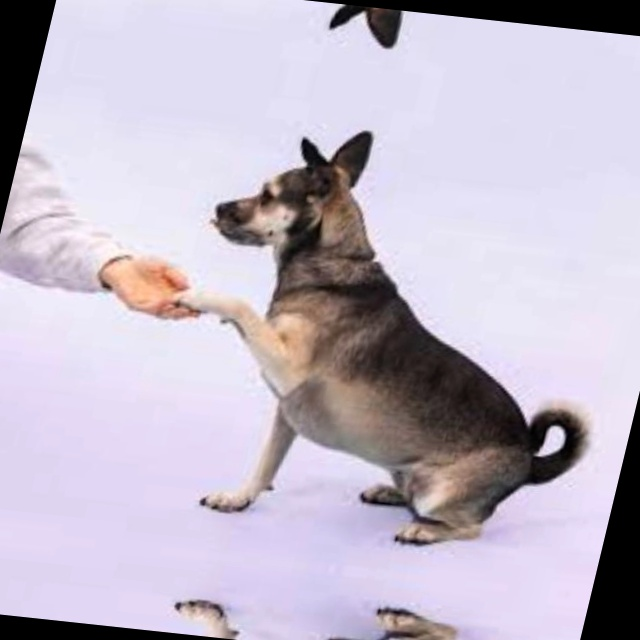dog: (140, 102, 640, 552), (250, 0, 640, 93), (111, 587, 551, 640)
